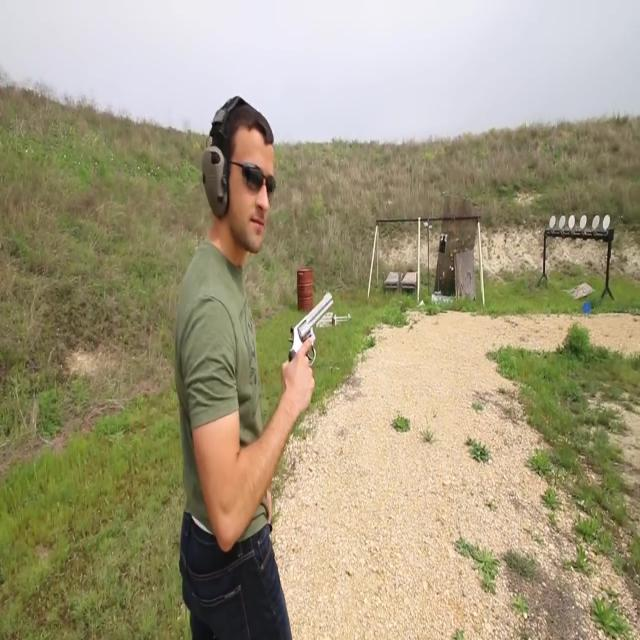Weapon: (273, 255, 353, 408)
